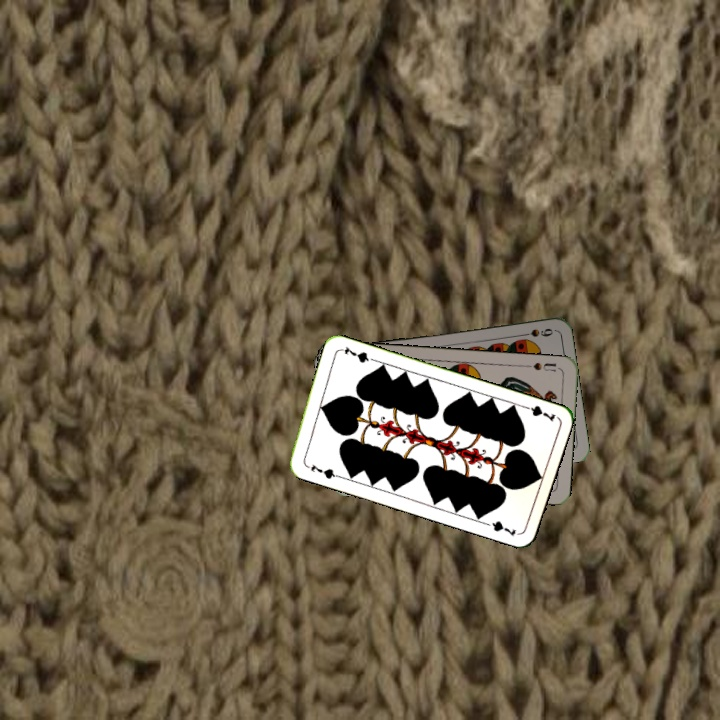G7: (518, 401, 558, 424), (301, 460, 341, 482)
S9: (515, 324, 555, 340)
SU: (521, 358, 562, 374)
